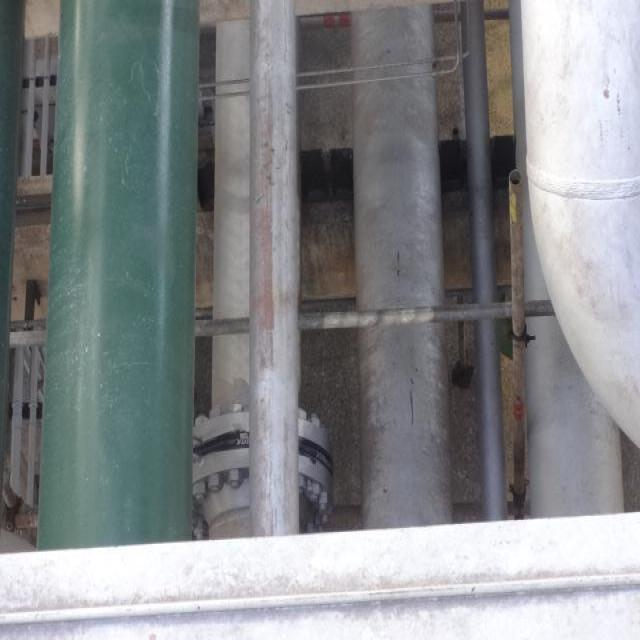gas: (52, 6, 196, 542), (518, 2, 638, 410), (356, 5, 437, 535), (195, 11, 252, 544), (250, 4, 298, 533), (462, 3, 510, 519), (535, 422, 617, 518)
